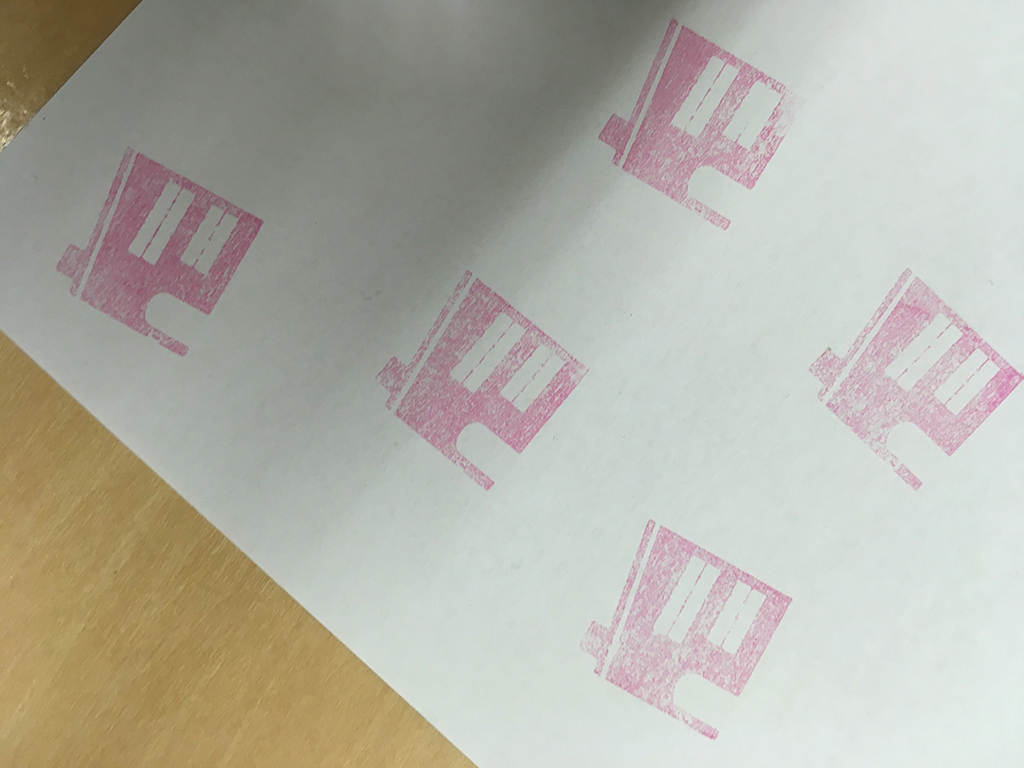house: (363, 266, 600, 507), (795, 256, 1024, 494), (586, 12, 820, 243), (53, 129, 273, 374), (581, 509, 793, 745)
